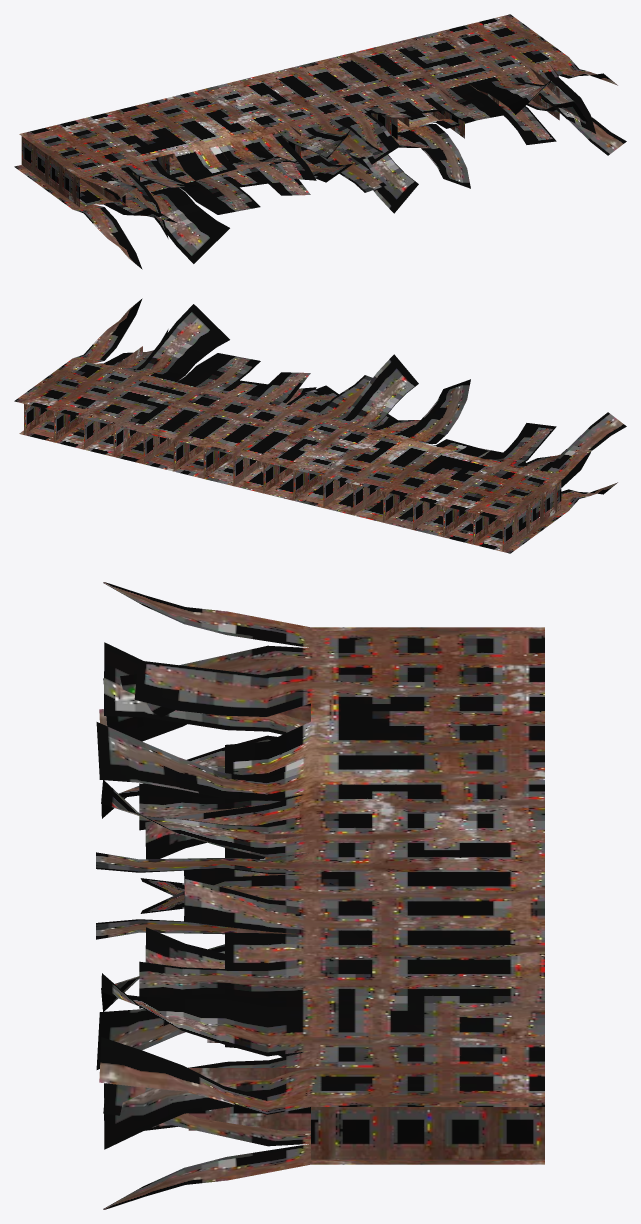
File: apartment_complex_rebar_large.glb
The picture shows the model from 3 angles, top to bottom: view 1: azimuth 30°, elevation 25°; view 2: azimuth 150°, elevation 25°; view 3: azimuth 270°, elevation 25°; orthographic projection. The views are drawn at different scales.
Parts seen in each view (by area): view 1: apartment_complex_rebar_large; view 2: apartment_complex_rebar_large; view 3: apartment_complex_rebar_large.
Part boxes in pixels (<box>): apartment_complex_rebar_large: <box>14,14,626,269</box>; apartment_complex_rebar_large: <box>14,298,626,553</box>; apartment_complex_rebar_large: <box>96,582,544,1209</box>.
Bounding box in the file's own units: 2.13 × 0.3915 × 0.8117.
1 material, 1 textured.
